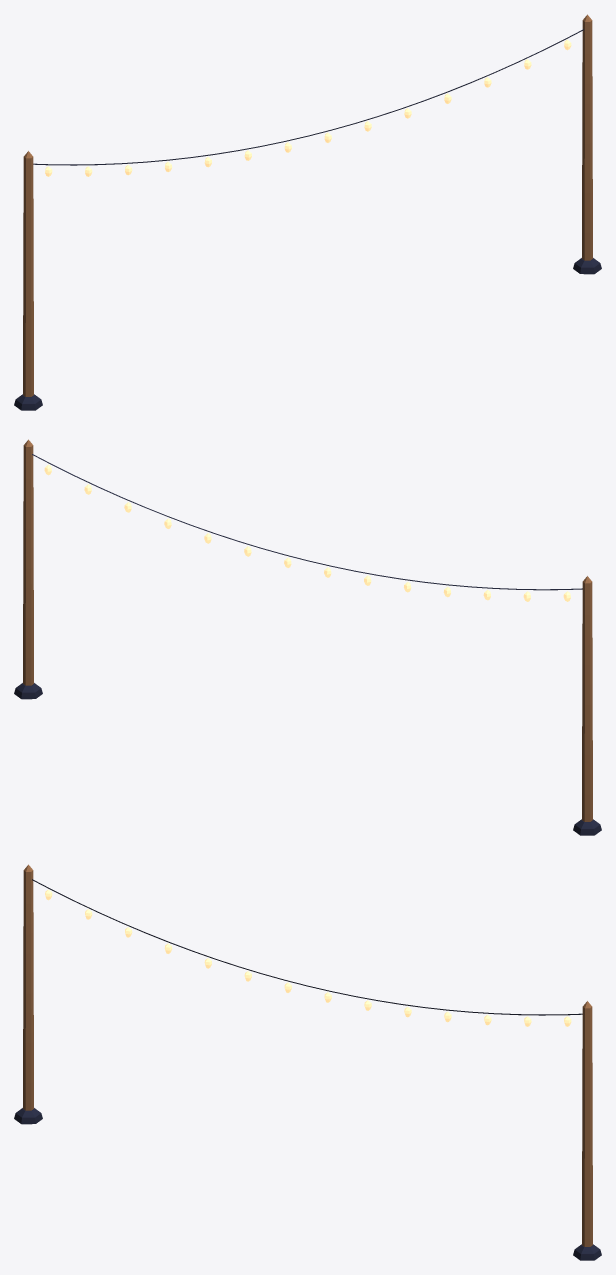
The model's file is string_lights.glb.
3 renders of one model, top to bottom at view 1: azimuth 30°, elevation 25°; view 2: azimuth 150°, elevation 25°; view 3: azimuth 330°, elevation 25°, orthographic.
Parts seen in each view (by area): view 1: string_lights.001, bulbs; view 2: string_lights.001, bulbs; view 3: string_lights.001, bulbs.
Boxes of the visible parts, x1,y1,x2,y2 form: string_lights.001: (14,14,601,410); bulbs: (45,39,571,176); string_lights.001: (14,439,601,835); bulbs: (44,464,570,601); string_lights.001: (14,864,601,1260); bulbs: (45,889,571,1026).
Size of the model in its own units: 8.31 by 3.48 by 0.3602.
Materials: 2 (1 with a texture image).
